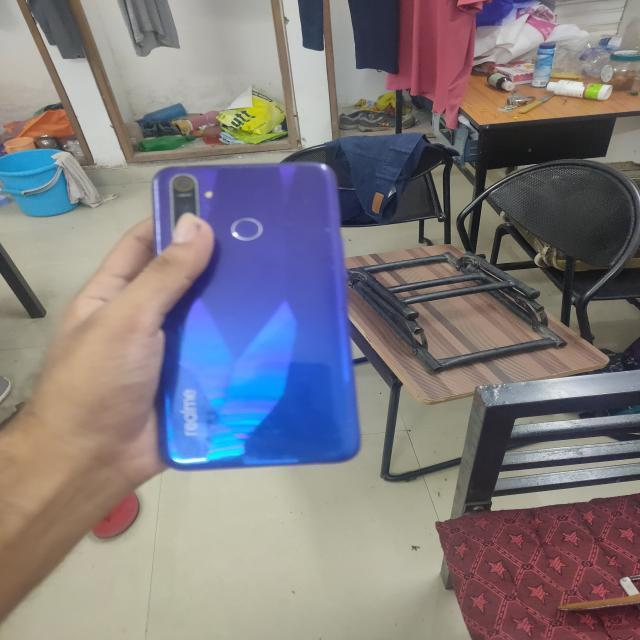Phone: (147, 159, 363, 471)
